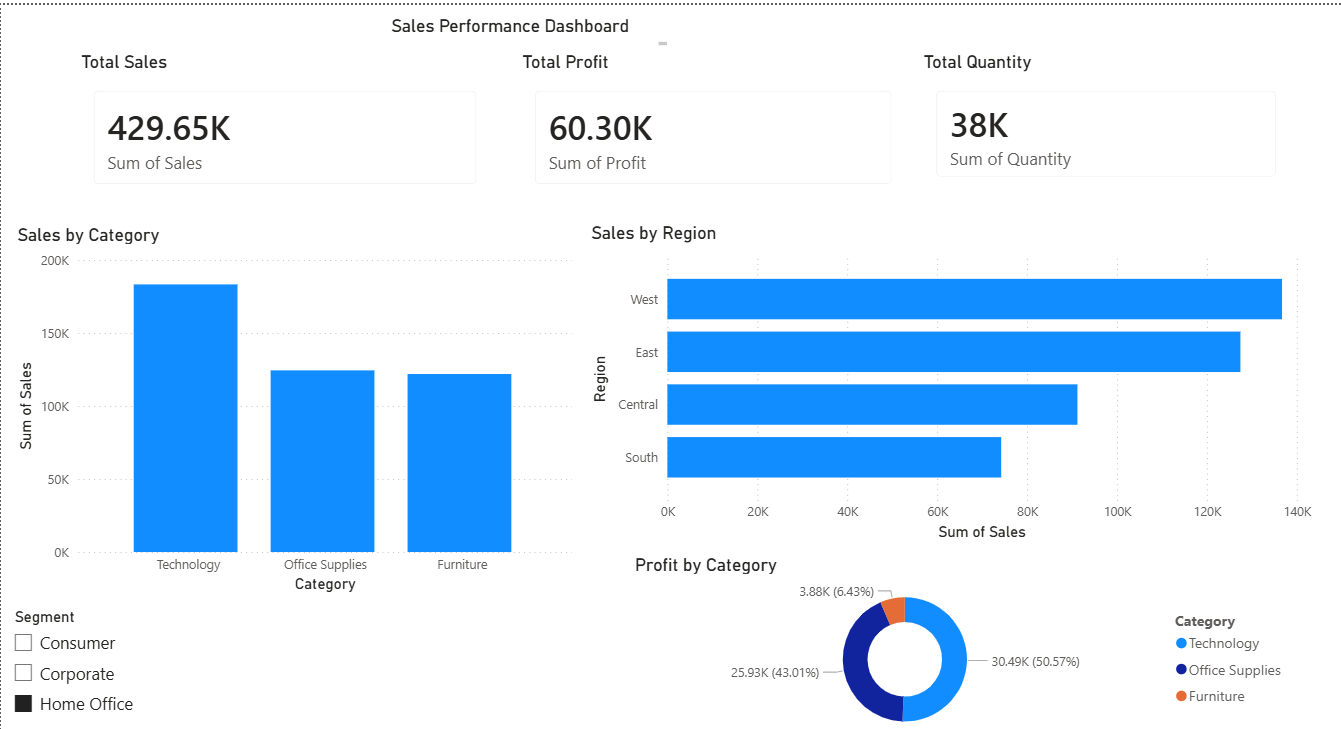

This screenshot's page, from the dashboard's own definition file:
{"tool":"powerbi","page":{"name":"Page 1","canvas":[1280,720],"ordinal":0},"visuals":[{"type":"cardVisual","title":"Total Sales","fields":{"Data":["Sum(SampleSuperstore.Sales)"]},"box":[71.2,44,399.2,144.3],"z":0},{"type":"cardVisual","title":"Total Quantity","fields":{"Data":["Sum(SampleSuperstore.Quantity)"]},"box":[875.3,44,358.9,136.8],"z":1000},{"type":"cardVisual","title":"Total Profit","fields":{"Data":["Sum(SampleSuperstore.Profit)"]},"box":[492,44,374.9,144.3],"z":2000},{"type":"clusteredColumnChart","title":"Sales by Category","fields":{"Category":["SampleSuperstore.Category"],"Y":["Sum(SampleSuperstore.Sales)"]},"box":[10.3,208.1,538.9,357.1],"z":3000},{"type":"clusteredBarChart","title":"Sales by Region","fields":{"Category":["SampleSuperstore.Region"],"Y":["Sum(SampleSuperstore.Sales)"]},"box":[558,208,697,308],"z":4000},{"type":"slicer","fields":{"Values":["SampleSuperstore.Segment"]},"box":[0,570,281,150],"z":5000},{"type":"donutChart","title":"Profit by Category","fields":{"Category":["SampleSuperstore.Category"],"Y":["Sum(SampleSuperstore.Profit)"]},"box":[599,523,635,181],"z":6000},{"type":"textbox","title":"Sales Performance Dashboard","box":[367,10,273,34],"z":7000}]}

Visuals, with their boxes on the page's 1280x720 design canvas (x1, y1, x2, y2). These are canvas units, not pixel positions in the 1341x729 screenshot, which may show the page scaled, cropped or inside an application window:
"Total Sales" cardVisual: (x1=71, y1=44, x2=470, y2=188)
"Total Quantity" cardVisual: (x1=875, y1=44, x2=1234, y2=181)
"Total Profit" cardVisual: (x1=492, y1=44, x2=867, y2=188)
"Sales by Category" clusteredColumnChart: (x1=10, y1=208, x2=549, y2=565)
"Sales by Region" clusteredBarChart: (x1=558, y1=208, x2=1255, y2=516)
slicer - SampleSuperstore.Segment: (x1=0, y1=570, x2=281, y2=720)
"Profit by Category" donutChart: (x1=599, y1=523, x2=1234, y2=704)
"Sales Performance Dashboard" textbox: (x1=367, y1=10, x2=640, y2=44)
